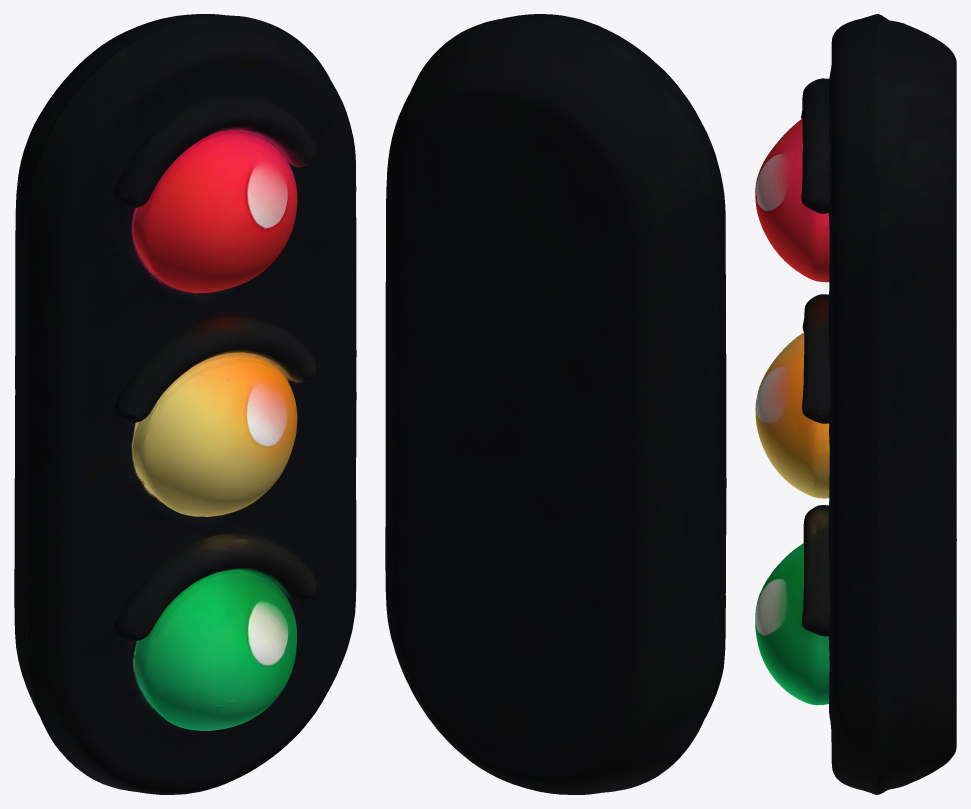
File: traffic_light.glb
3 views of the same model, side by side, from view 1: azimuth 30°, elevation 25°; view 2: azimuth 150°, elevation 25°; view 3: azimuth 270°, elevation 25° (orthographic). The views are drawn at different scales.
Visible parts, largest first — view 1: model; view 2: model; view 3: model.
Boxes of the visible parts, x1,y1,x2,y2 form: model: (14,14,356,794); model: (385,14,726,794); model: (755,14,956,794).
Bounding box in the file's own units: 0.4356 × 1 × 0.2449.
Materials: 1 (1 with a texture image).
